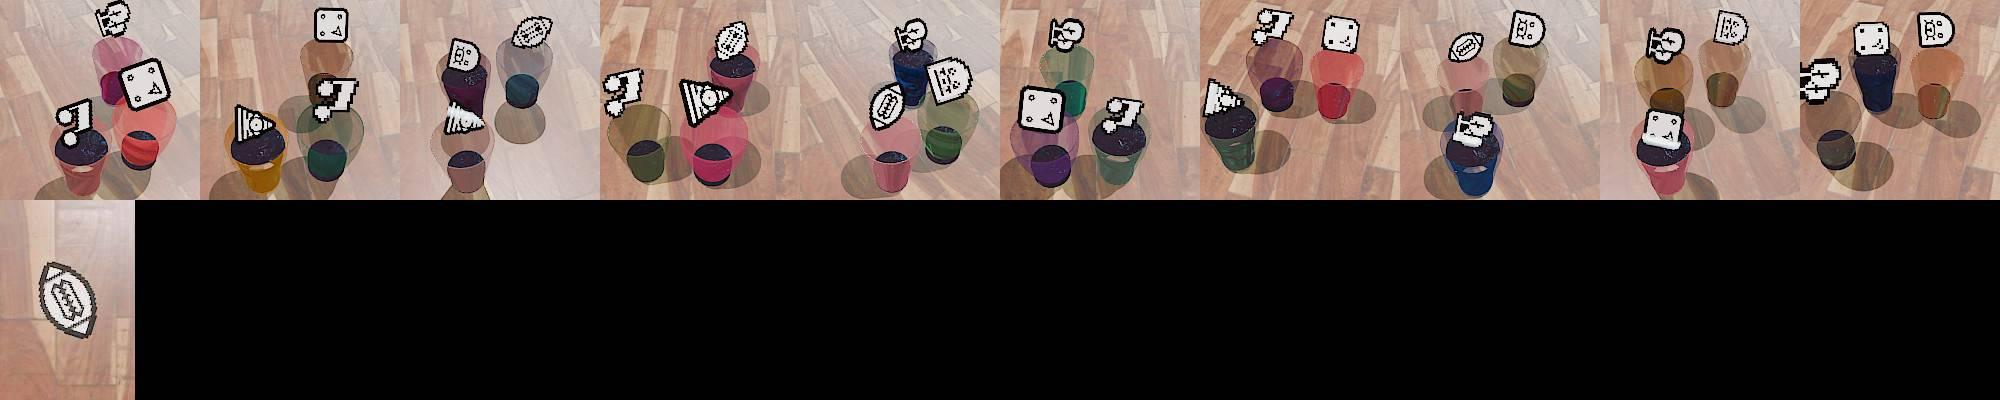icon: (37, 260, 98, 340), (117, 57, 172, 112), (311, 73, 361, 124), (679, 78, 730, 127), (925, 56, 973, 106), (1018, 83, 1066, 132), (601, 66, 645, 118), (1797, 57, 1843, 104), (55, 98, 96, 148), (1640, 108, 1684, 152), (233, 102, 278, 144), (869, 83, 906, 130), (1319, 14, 1360, 55), (1251, 6, 1293, 46), (1644, 25, 1685, 65), (1452, 111, 1494, 149), (1101, 96, 1145, 131), (1203, 78, 1242, 117), (713, 19, 750, 61), (1508, 9, 1546, 48), (441, 101, 486, 134), (94, 0, 131, 39), (511, 14, 554, 48), (1048, 17, 1085, 54), (1853, 20, 1892, 56), (1917, 11, 1954, 47), (1713, 9, 1749, 46), (312, 6, 348, 42), (446, 37, 482, 73), (1448, 31, 1483, 62), (895, 18, 927, 51)
